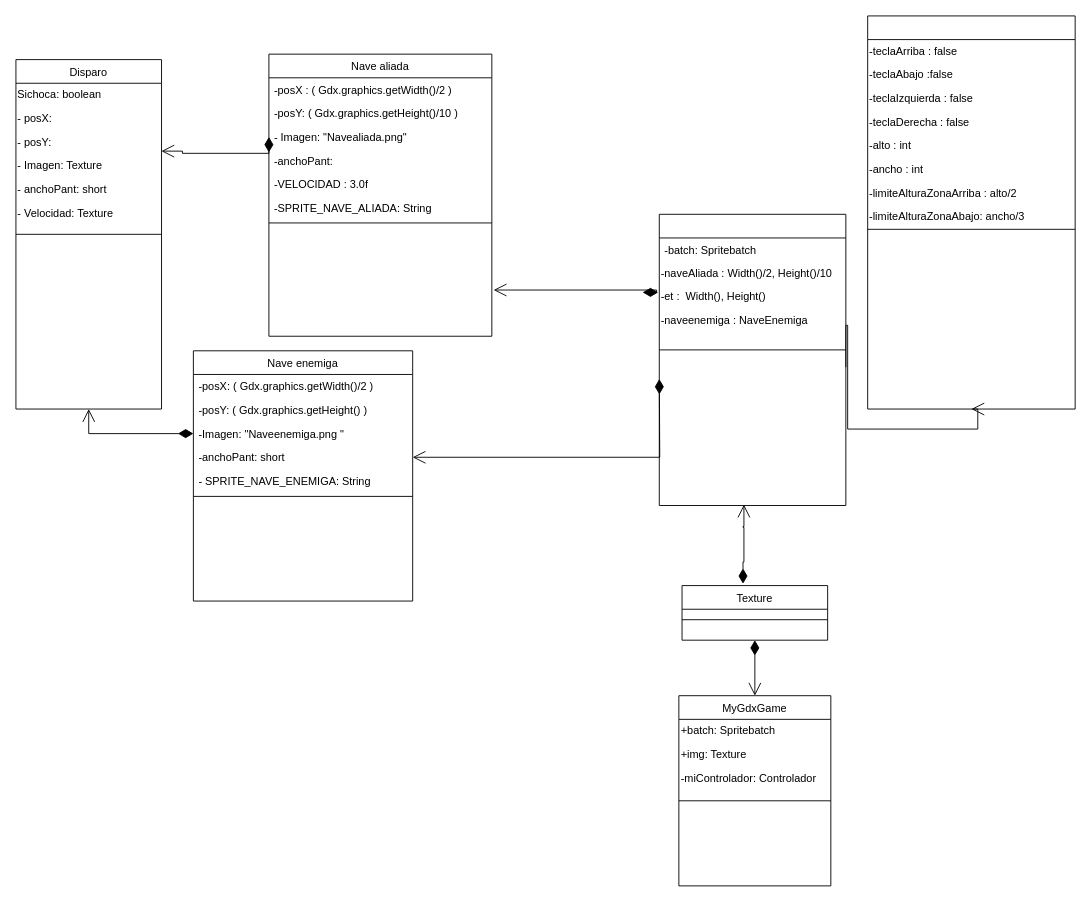
Image size: 1091x902. Some labels were removed from this diagram. Each missing label, with the box of its shape:
Controlador: (658, 213, 846, 506)
EstadoTeclado: (867, 15, 1075, 409)
